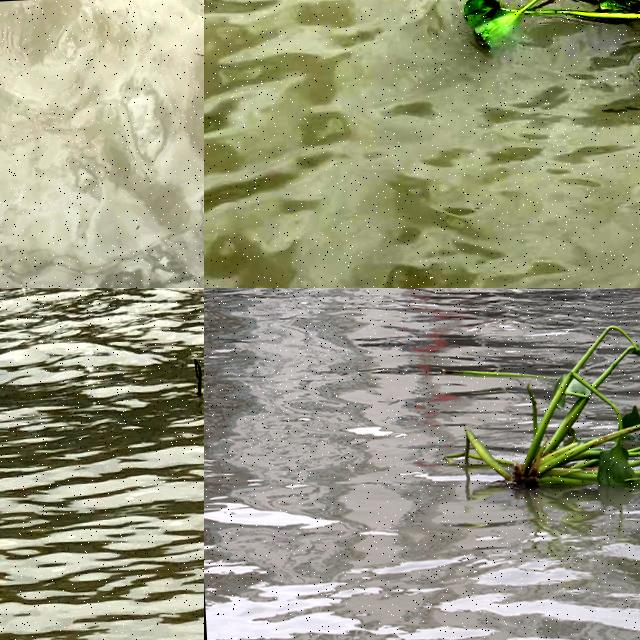water-hyacinth: (453, 315, 640, 514), (452, 1, 640, 108), (1, 311, 51, 363), (183, 343, 205, 414)
